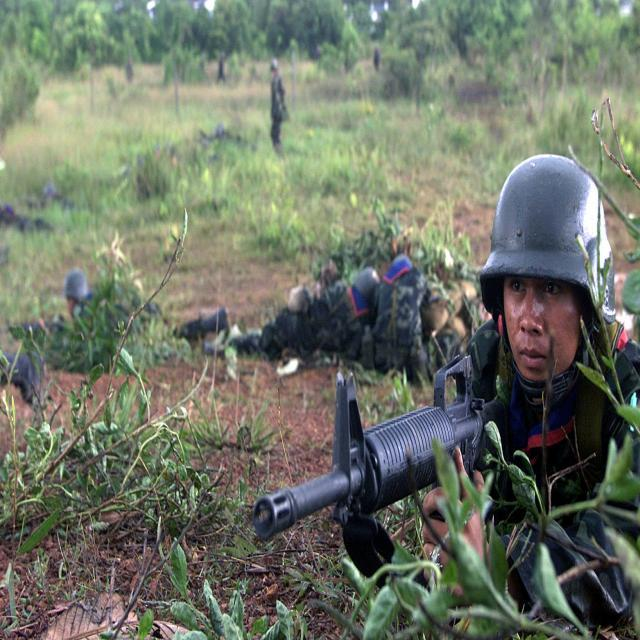m16: (208, 274, 560, 618)
